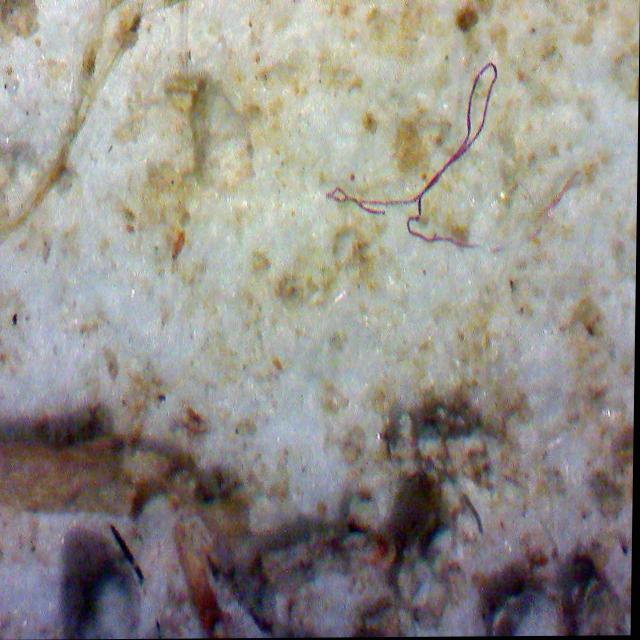microplastic: (327, 63, 578, 258)
